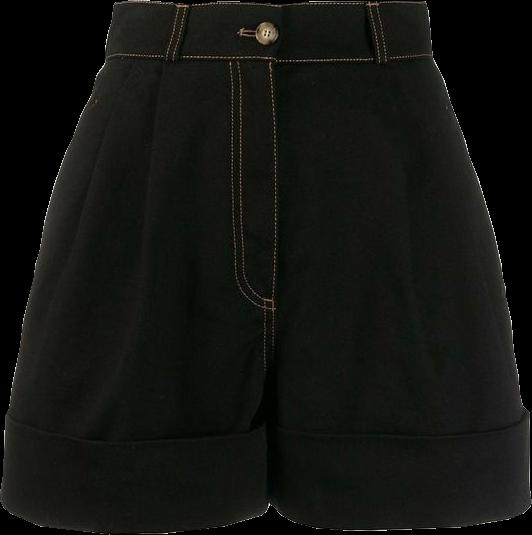Hemline: (0, 498, 272, 534), (270, 499, 531, 530)
Pantleg: (0, 1, 285, 532), (269, 1, 530, 529)
Waistline: (101, 48, 433, 63), (112, 0, 428, 9)
